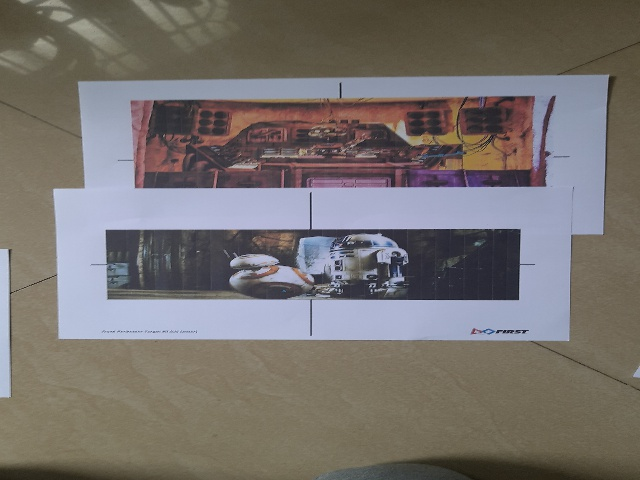fpt2: (87, 220, 555, 318)
rept1: (83, 82, 597, 199)
